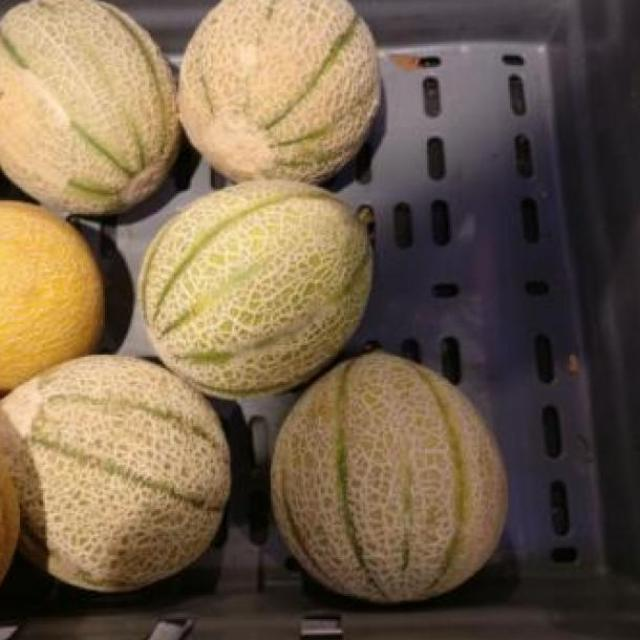Cantaloupe: (271, 351, 510, 606), (0, 357, 232, 592), (137, 184, 375, 403), (178, 0, 385, 181), (0, 202, 106, 397)
